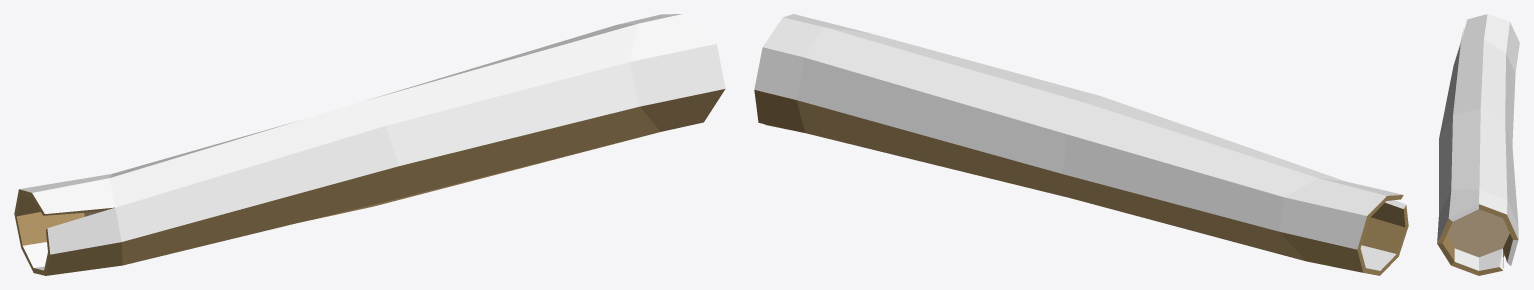
The model's file is Oak_Log_Snow_07.fbx.
3 views of the same model, side by side, from view 1: azimuth 30°, elevation 25°; view 2: azimuth 150°, elevation 25°; view 3: azimuth 270°, elevation 25° (orthographic). The views are drawn at different scales.
Parts seen in each view (by area): view 1: Oak_Log_Snow_07; view 2: Oak_Log_Snow_07; view 3: Oak_Log_Snow_07.
Part boxes in pixels (<box>): Oak_Log_Snow_07: <box>14,14,725,275</box>; Oak_Log_Snow_07: <box>754,14,1408,275</box>; Oak_Log_Snow_07: <box>1437,14,1519,275</box>.
Bounding box in the file's own units: 347 × 58.35 × 57.27.
